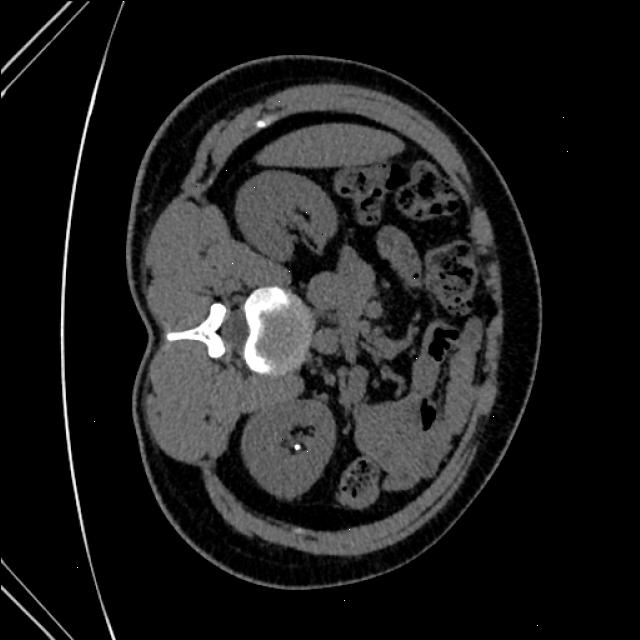kidneystone: (292, 442, 302, 454)
